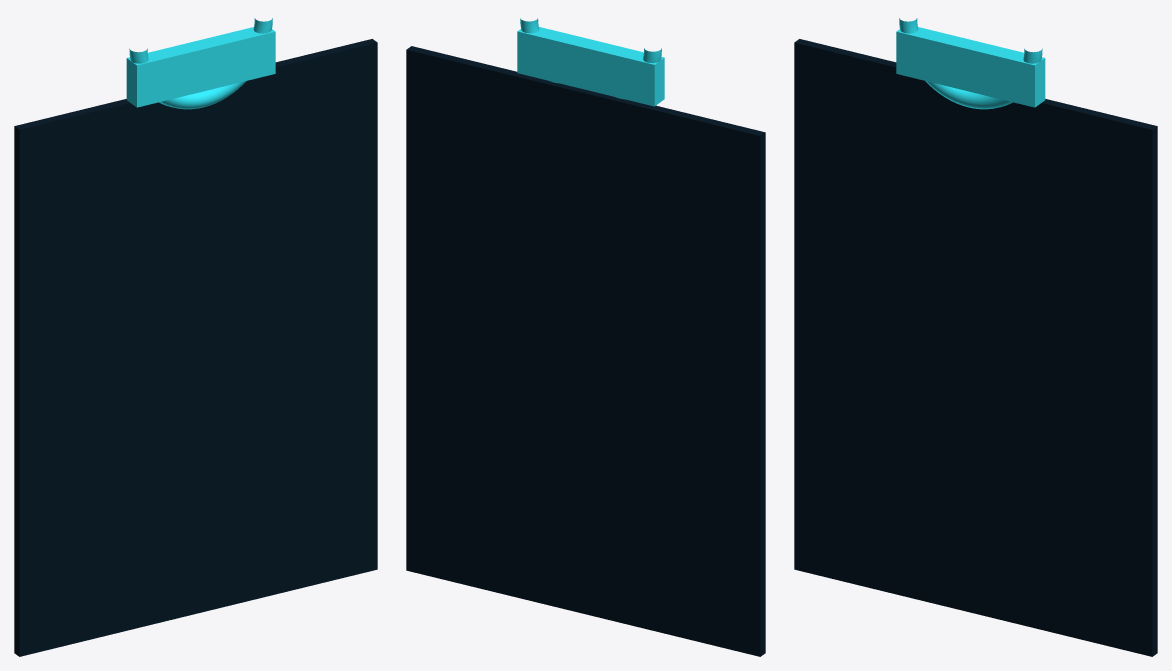
Rendered from card.glb.
3 views of the same model, side by side, from view 1: azimuth 30°, elevation 25°; view 2: azimuth 150°, elevation 25°; view 3: azimuth 330°, elevation 25° (orthographic).
Parts seen in each view (by area): view 1: card, clip, clamp; view 2: card, clip; view 3: card, clip, clamp.
Boxes of the visible parts, x1=… form: card: x1=14, y1=39, x2=377, y2=656; clip: x1=126, y1=27, x2=275, y2=107; clamp: x1=129, y1=18, x2=272, y2=109; card: x1=406, y1=46, x2=765, y2=656; clip: x1=517, y1=27, x2=664, y2=106; card: x1=794, y1=39, x2=1157, y2=656; clip: x1=896, y1=27, x2=1045, y2=107; clamp: x1=899, y1=18, x2=1042, y2=109.
Bounding box in the file's own units: 1.6 × 2.49 × 0.1.
